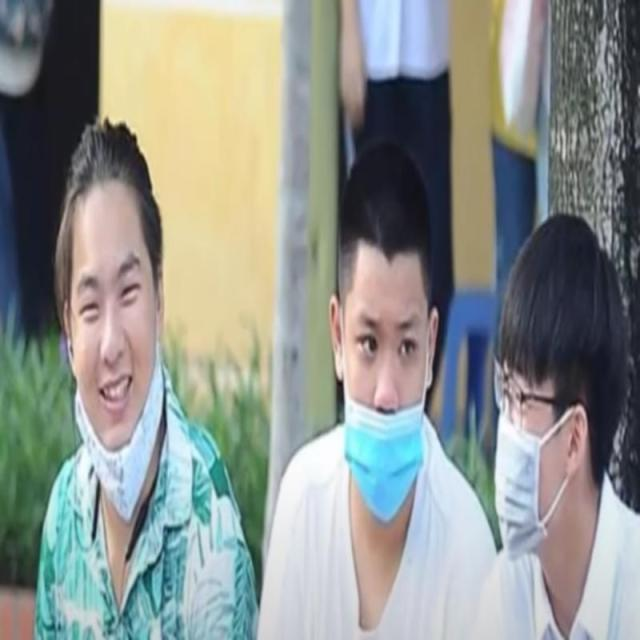hairnet: (76, 252, 158, 518), (344, 294, 425, 516)
